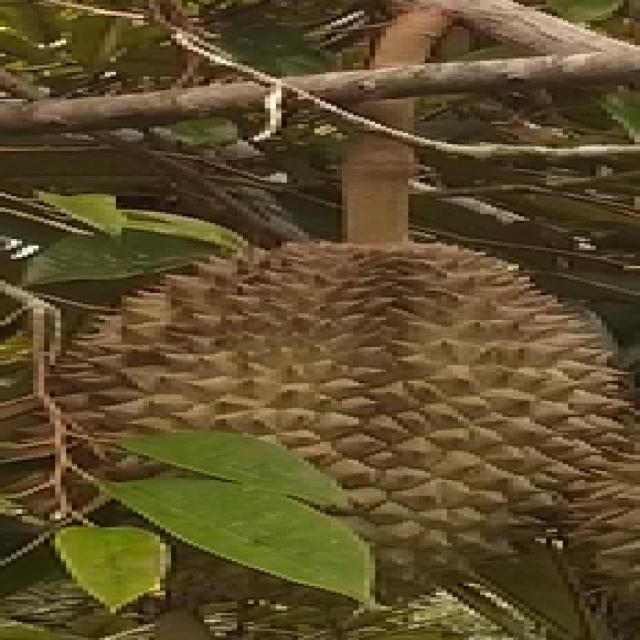mature: (55, 242, 633, 598)
